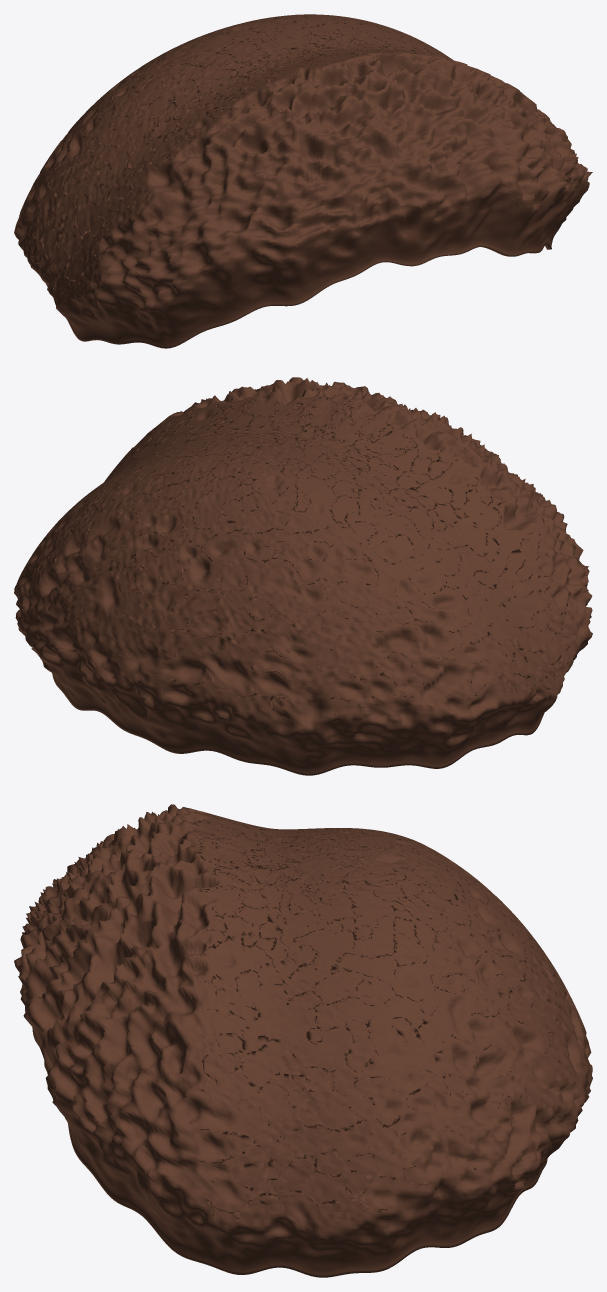
The model's file is Masculine-afro-pashmina252-hair.glb.
3 renders of one model, top to bottom at view 1: azimuth 30°, elevation 25°; view 2: azimuth 150°, elevation 25°; view 3: azimuth 270°, elevation 25°, orthographic. The views are drawn at different scales.
Visible parts, largest first — view 1: 226 hair / Hair252 / dense natural coil groups.001; view 2: 226 hair / Hair252 / dense natural coil groups.001; view 3: 226 hair / Hair252 / dense natural coil groups.001.
Boxes of the visible parts, bbox=[...] form: 226 hair / Hair252 / dense natural coil groups.001: bbox=[14, 14, 592, 348]; 226 hair / Hair252 / dense natural coil groups.001: bbox=[14, 377, 592, 775]; 226 hair / Hair252 / dense natural coil groups.001: bbox=[14, 804, 592, 1277].
Size of the model in its own units: 1.06 by 0.5107 by 0.8736.
